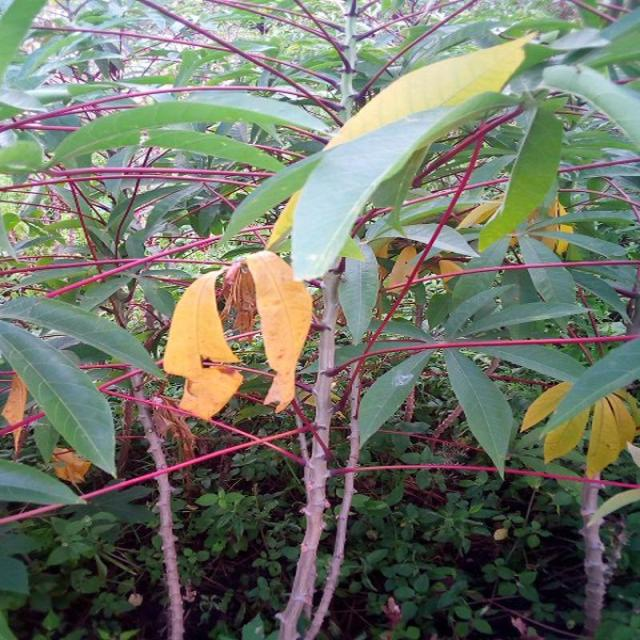cassava leaf: (284, 28, 540, 282), (0, 319, 118, 479), (162, 268, 243, 420), (244, 247, 313, 413)
